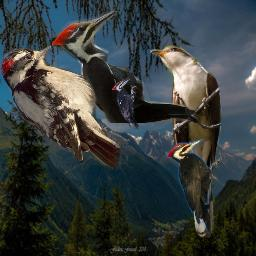Cuckoo: (150, 45, 222, 238)
Woodpecker: (42, 11, 206, 123), (0, 45, 121, 170), (164, 139, 220, 234), (112, 77, 139, 129)
